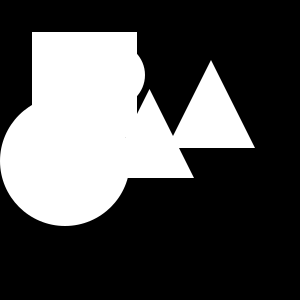circle: (32, 32, 137, 137)
rectangle: (0, 96, 130, 226), (81, 43, 145, 107)
triangle: (105, 89, 194, 178), (167, 60, 255, 148)
